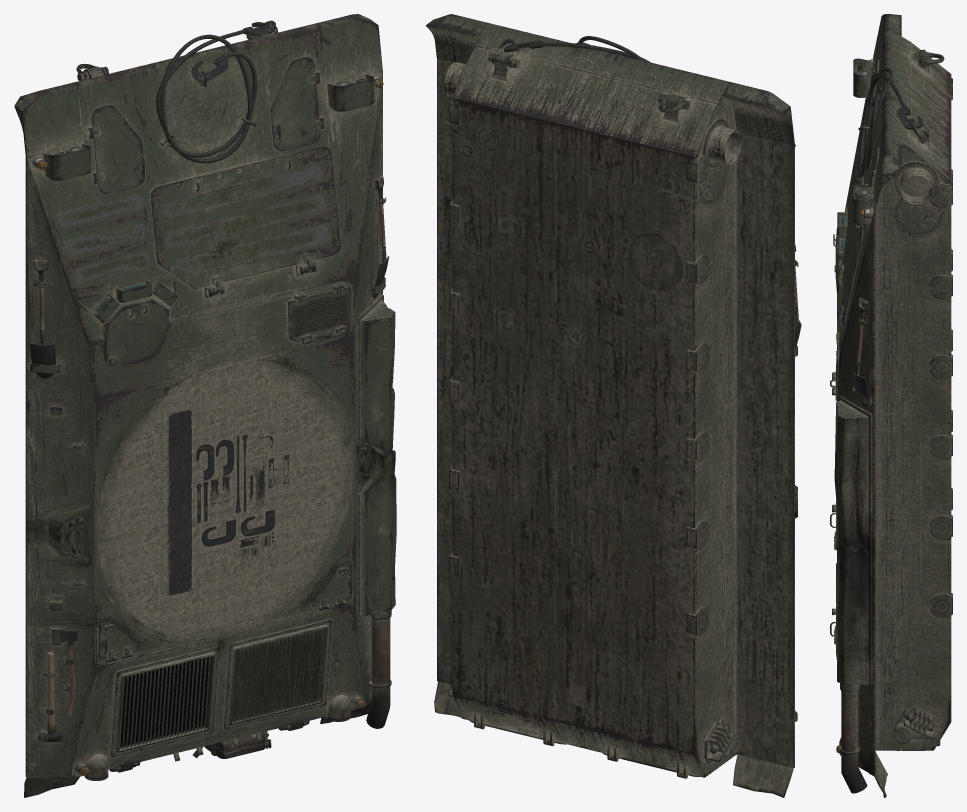
File: Hull.glb
The picture shows the model from 3 angles, left to right: view 1: azimuth 30°, elevation 25°; view 2: azimuth 150°, elevation 25°; view 3: azimuth 270°, elevation 25°; orthographic projection. The views are drawn at different scales.
Parts seen in each view (by area): view 1: set_0_group_0; view 2: set_0_group_0; view 3: set_0_group_0.
Boxes of the visible parts, box(x1,y1,x2,y2) form: set_0_group_0: box(14, 14, 396, 797); set_0_group_0: box(425, 14, 801, 797); set_0_group_0: box(830, 14, 952, 797).
Size of the model in its own units: 3.16 by 6.03 by 1.03.
Materials: 1 (1 with a texture image).
